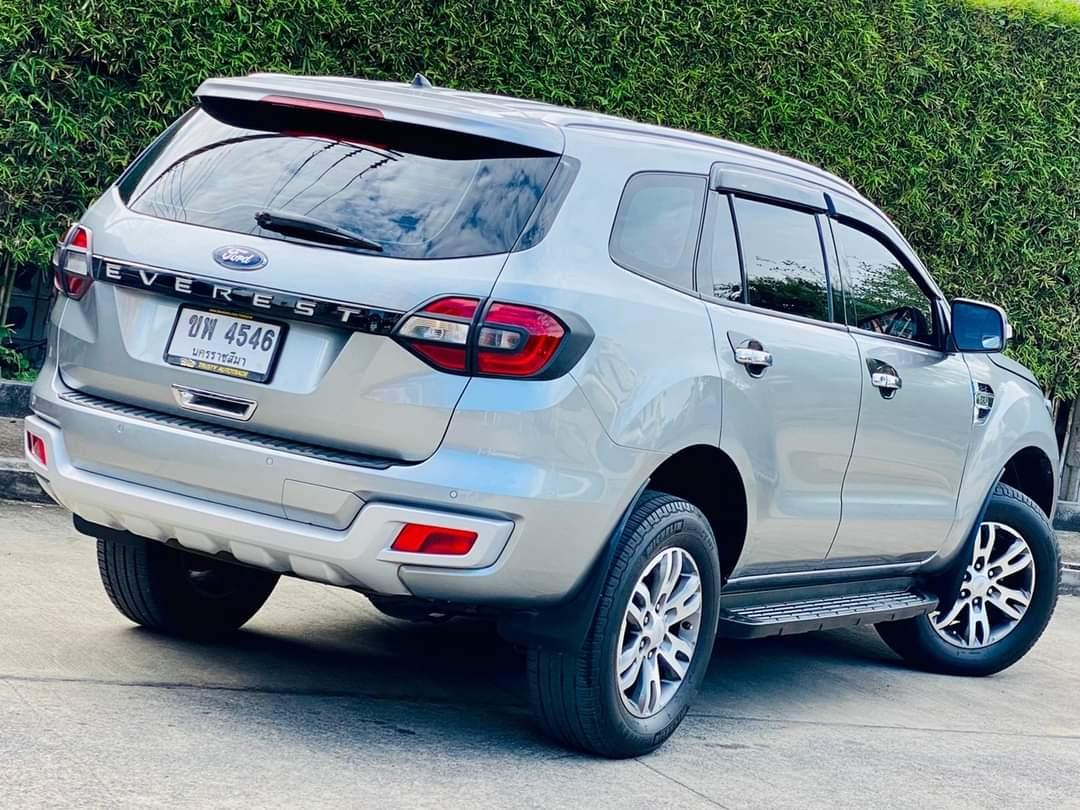license-plate: (162, 297, 291, 384)
